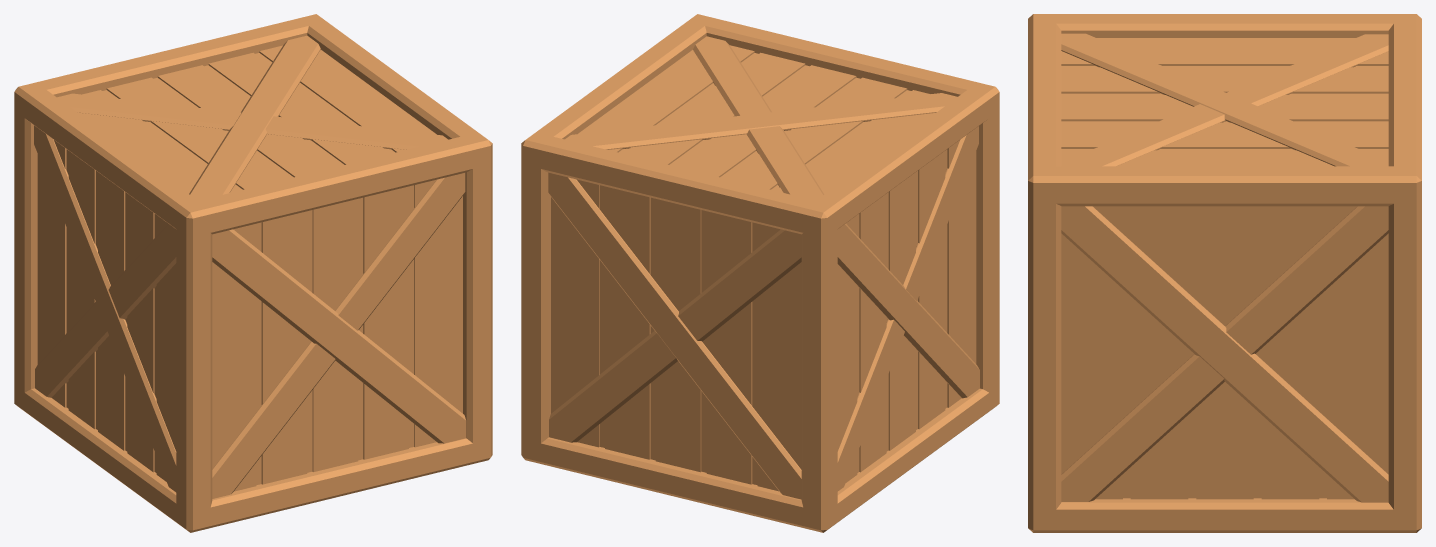
3 renders of one model, left to right at view 1: azimuth 30°, elevation 25°; view 2: azimuth 150°, elevation 25°; view 3: azimuth 270°, elevation 25°, orthographic. The views are drawn at different scales.
Visible parts, largest first — view 1: Box A; view 2: Box A; view 3: Box A.
Boxes of the visible parts, x1,y1,x2,y2 form: Box A: (14, 14, 492, 532); Box A: (521, 14, 999, 532); Box A: (1028, 14, 1421, 532).
Size of the model in its own units: 102 by 102 by 102.
